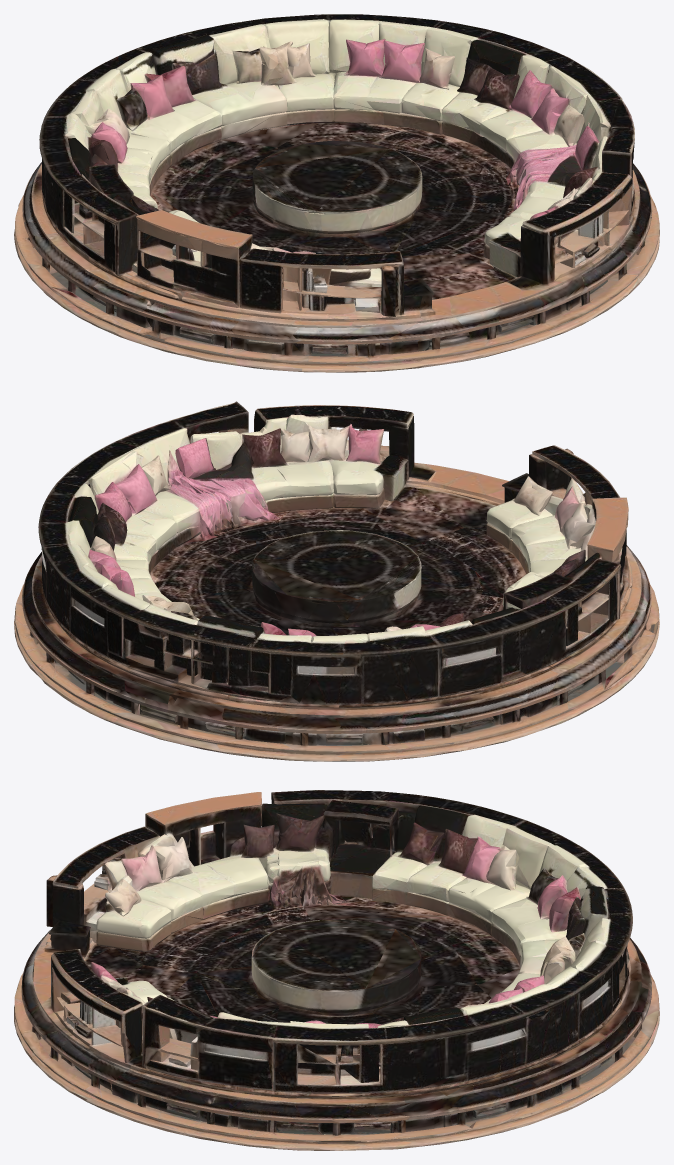
File: lounge_ring.glb
3 renders of one model, top to bottom at view 1: azimuth 30°, elevation 25°; view 2: azimuth 150°, elevation 25°; view 3: azimuth 270°, elevation 25°, orthographic.
Parts seen in each view (by area): view 1: room_lounge_ring; view 2: room_lounge_ring; view 3: room_lounge_ring.
Boxes of the visible parts, box(x1,y1,x2,y2) form: room_lounge_ring: box(14, 14, 659, 372); room_lounge_ring: box(14, 401, 659, 761); room_lounge_ring: box(14, 790, 659, 1150).
Bounding box in the file's own units: 3.8 × 0.6978 × 3.8.
Materials: 1 (1 with a texture image).
